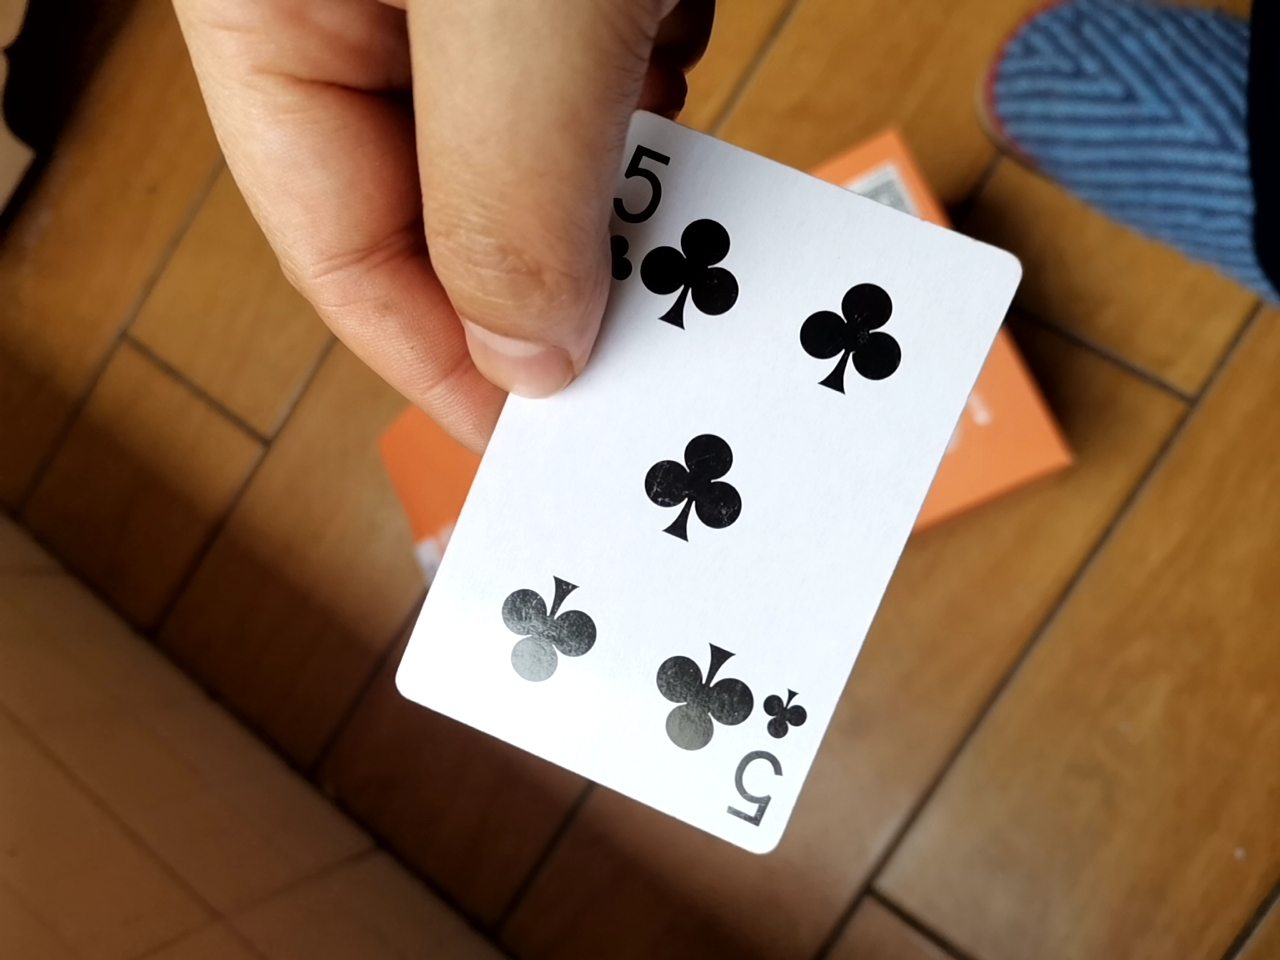mh 5: (366, 135, 1026, 852)
